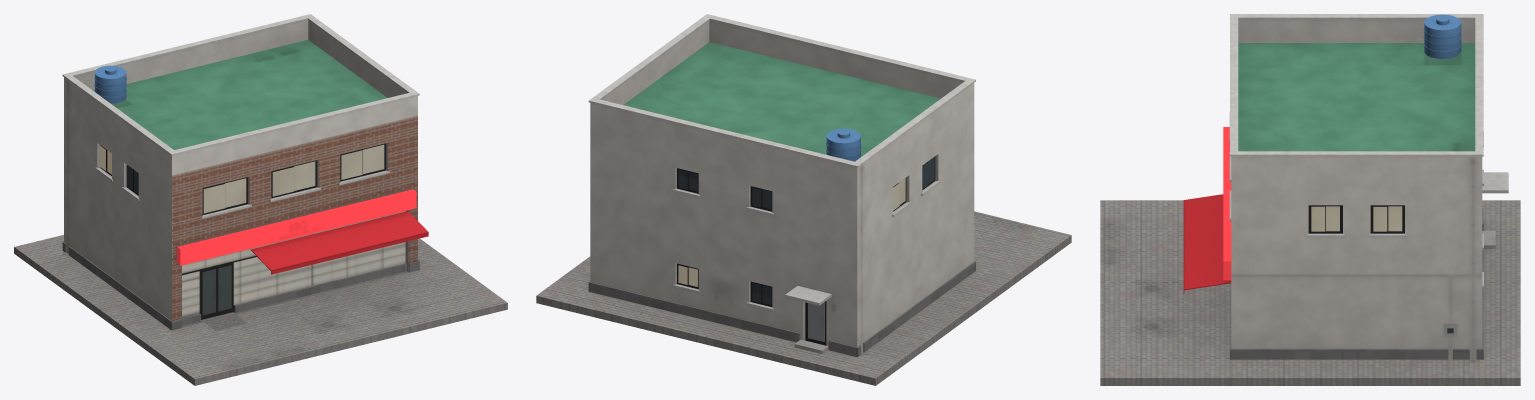
The model's file is IlsanBBQ_LOD2.fbx.
3 views of the same model, side by side, from view 1: azimuth 30°, elevation 25°; view 2: azimuth 150°, elevation 25°; view 3: azimuth 270°, elevation 25° (orthographic). The views are drawn at different scales.
Visible parts, largest first — view 1: IlsanBBQ_LOD2; view 2: IlsanBBQ_LOD2; view 3: IlsanBBQ_LOD2.
Part boxes in pixels (left/top/right/bottom): IlsanBBQ_LOD2: left=14, top=14, right=507, bottom=385; IlsanBBQ_LOD2: left=536, top=14, right=1071, bottom=385; IlsanBBQ_LOD2: left=1100, top=14, right=1520, bottom=385.
Bounding box in the file's own units: 15.9 × 9.4 × 15.9.
1 material, 1 textured.
